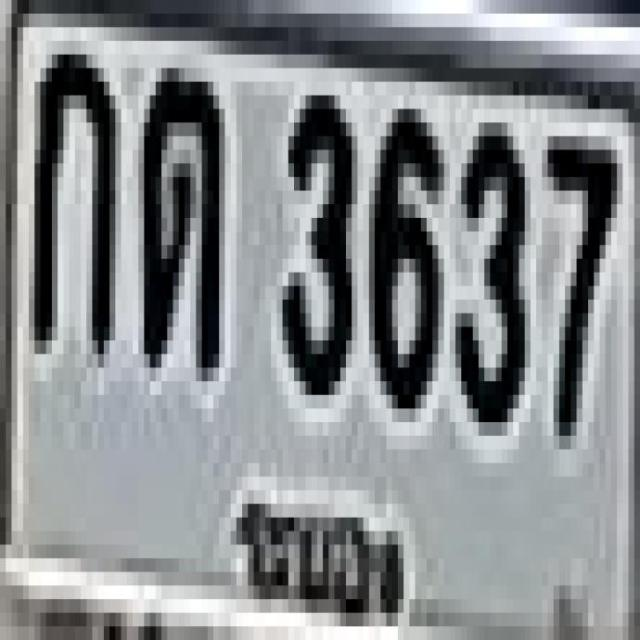3: (277, 83, 350, 384), (451, 115, 520, 420)
6: (367, 96, 436, 399)
7: (542, 128, 611, 428)
A01: (28, 44, 111, 343)
A21: (137, 59, 218, 362)
